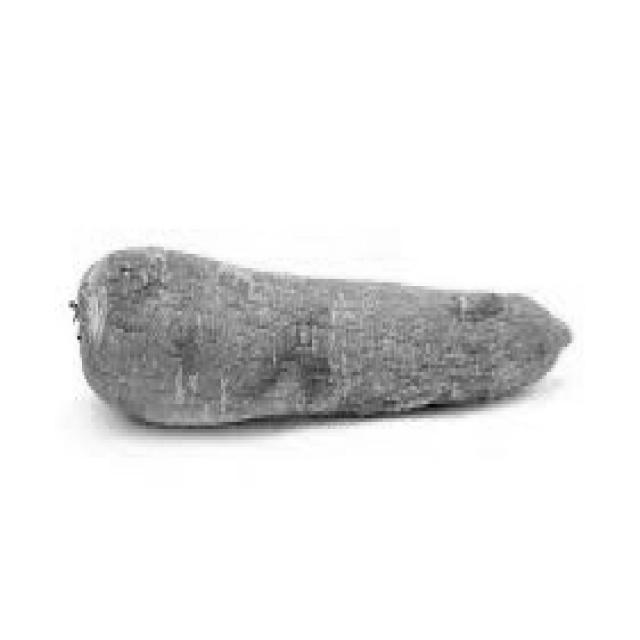Stale_Carrot: (64, 231, 578, 441)
